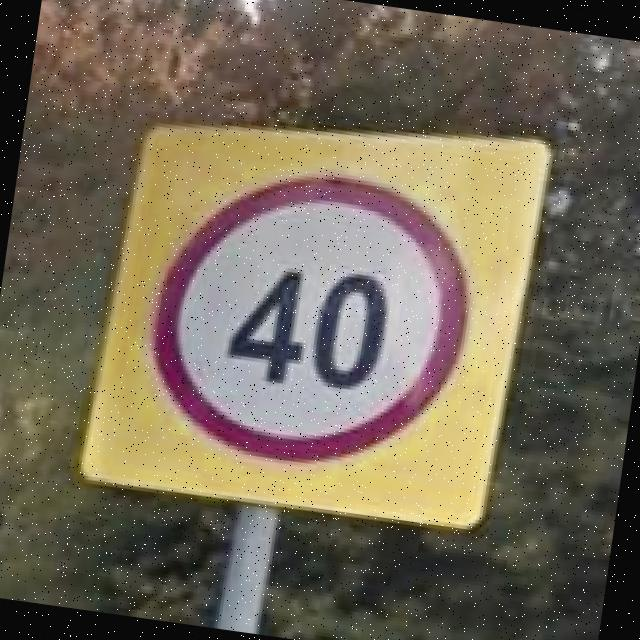Ograniczenie predkosci do 40: (136, 151, 488, 483)
